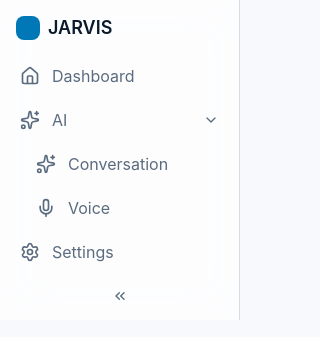
Scenario: Sidebar › nested AI group › collapsing the AI group hides its children but keeps the header
Click the button "AI" at [120, 120], box [8,100,231,140]
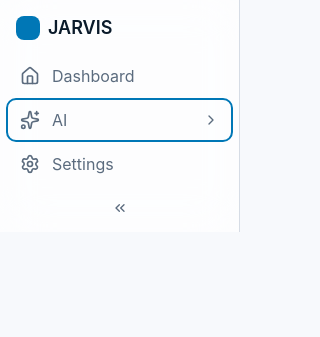
Now the button "AI" is collapsed, box [8,100,231,140]
Now the link "Conversation" is gone
